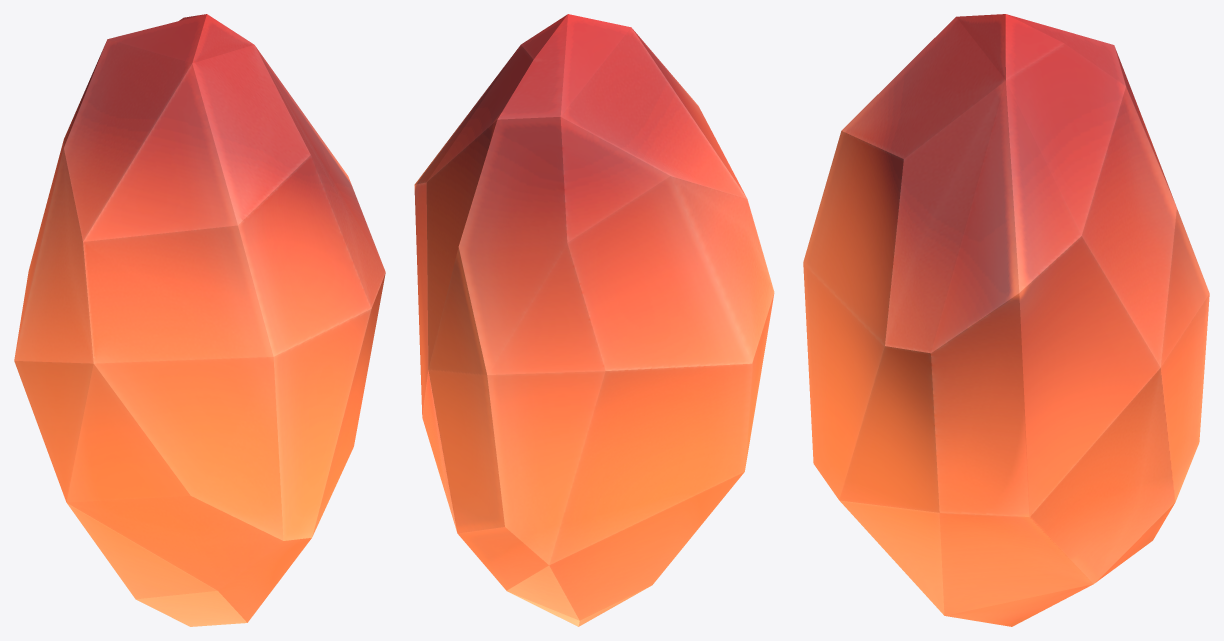
File: crystal_effect_red.fbx
The picture shows the model from 3 angles, left to right: view 1: azimuth 30°, elevation 25°; view 2: azimuth 150°, elevation 25°; view 3: azimuth 270°, elevation 25°; orthographic projection. The views are drawn at different scales.
Visible parts, largest first — view 1: crystal_effect_red; view 2: crystal_effect_red; view 3: crystal_effect_red.
Boxes of the visible parts, box(x1,y1,x2,y2) form: crystal_effect_red: box(14, 14, 385, 626); crystal_effect_red: box(414, 14, 774, 626); crystal_effect_red: box(803, 14, 1209, 626).
Size of the model in its own units: 3.13 by 5.43 by 3.23.
